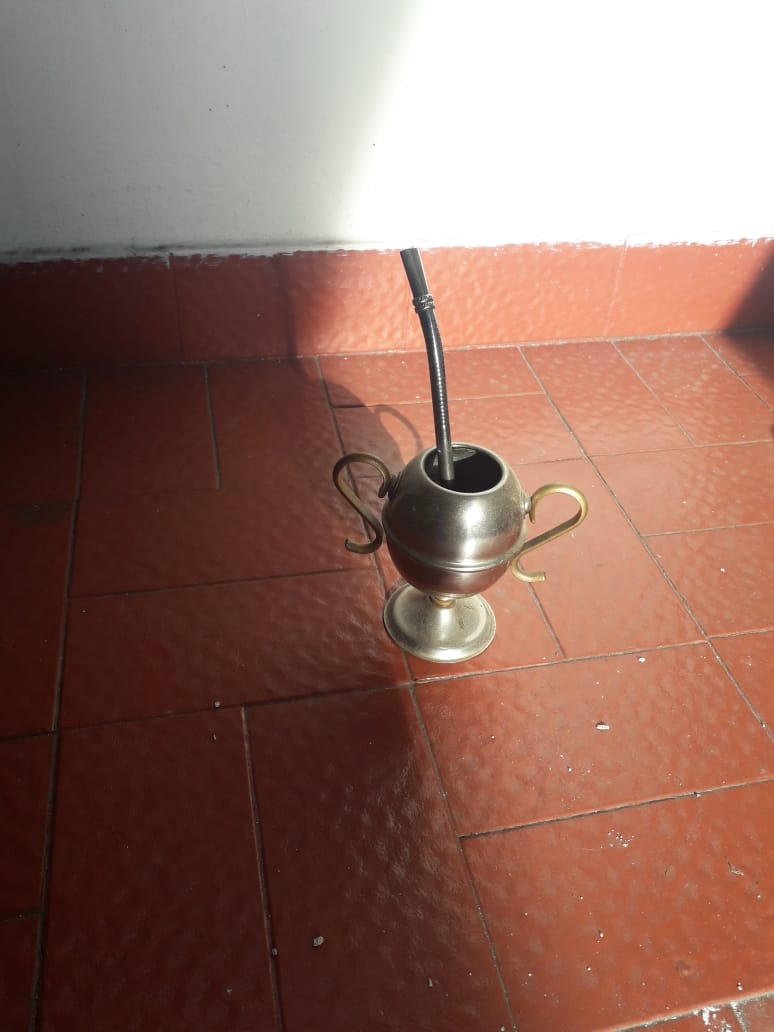mate: (328, 248, 589, 666)
metal: (326, 246, 587, 664)
